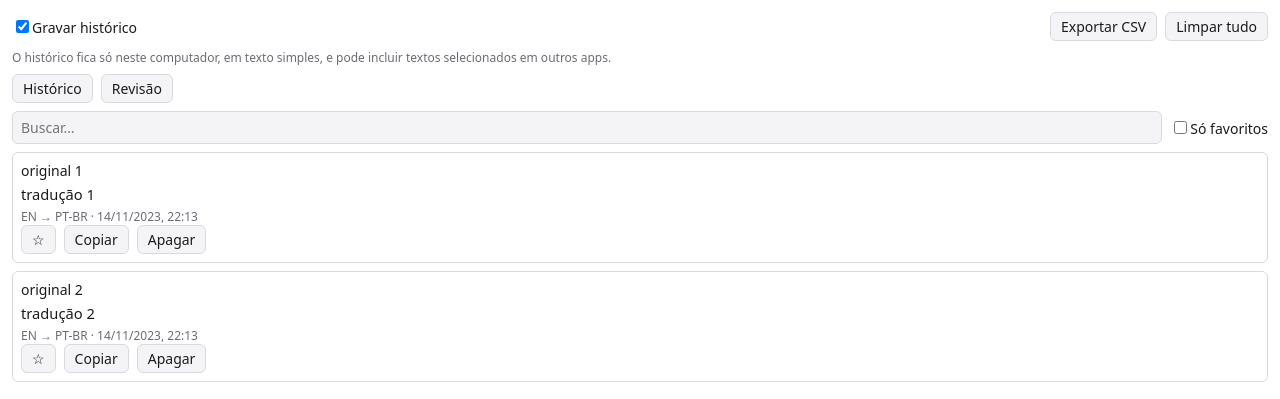
HistoryApp — ações › deletes one entry
Click the button "Apagar" below "original 1": (172, 240) [137,225,206,254]
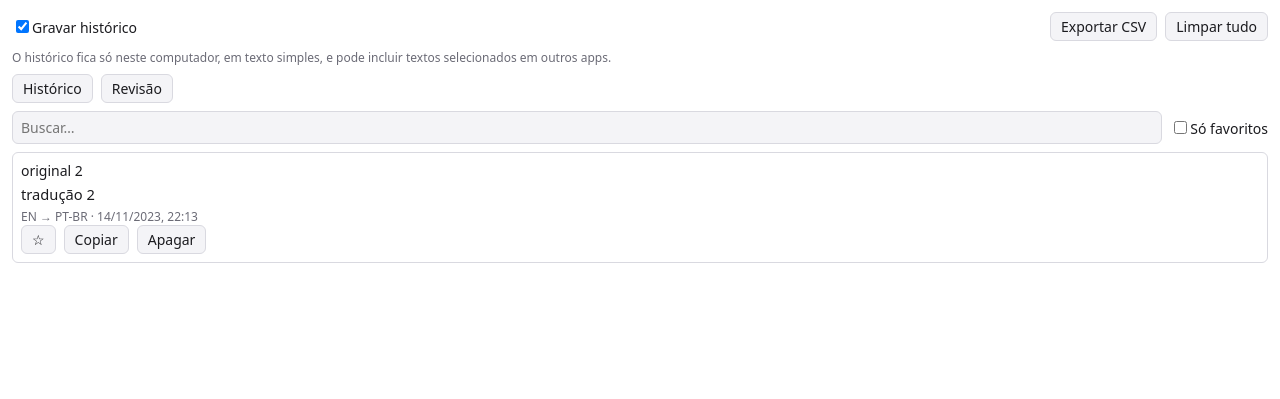
Expected: the text "original 2" is shown, [21,161,83,180]
Expected: the text "original 1" is gone
